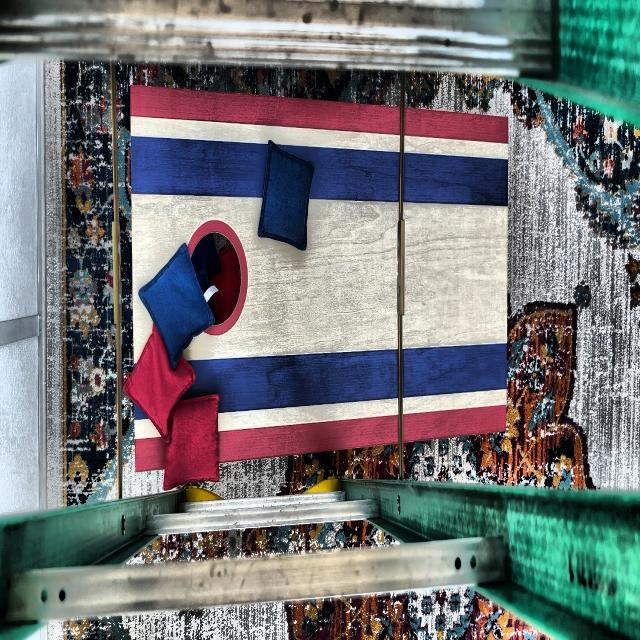blue-bean-bag: (139, 245, 215, 365), (259, 142, 316, 249)
blue-bean-bag-in-hole: (188, 234, 221, 281), (196, 267, 218, 325)
board: (134, 117, 505, 432), (130, 426, 133, 426)
hole: (182, 218, 248, 336)
red-bean-bag: (124, 326, 194, 442), (163, 397, 217, 488)
red-bean-bag-in-hole: (208, 246, 241, 324)
